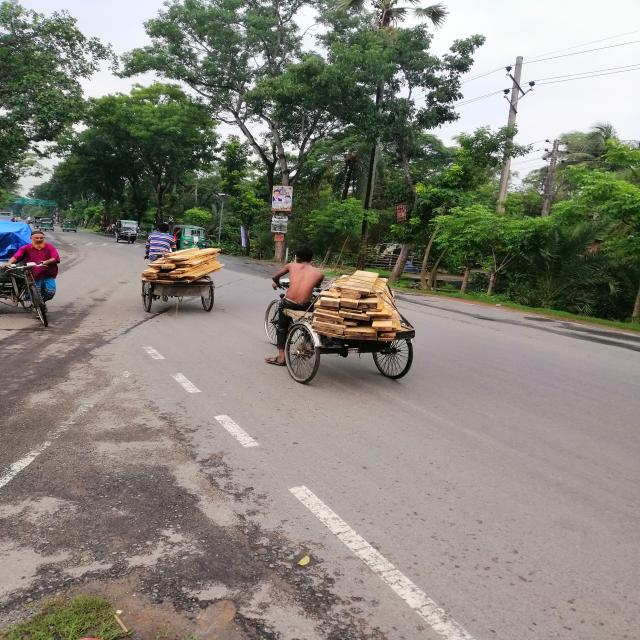Easybike: (99, 211, 149, 250)
Van: (231, 288, 447, 398), (122, 253, 244, 328)
